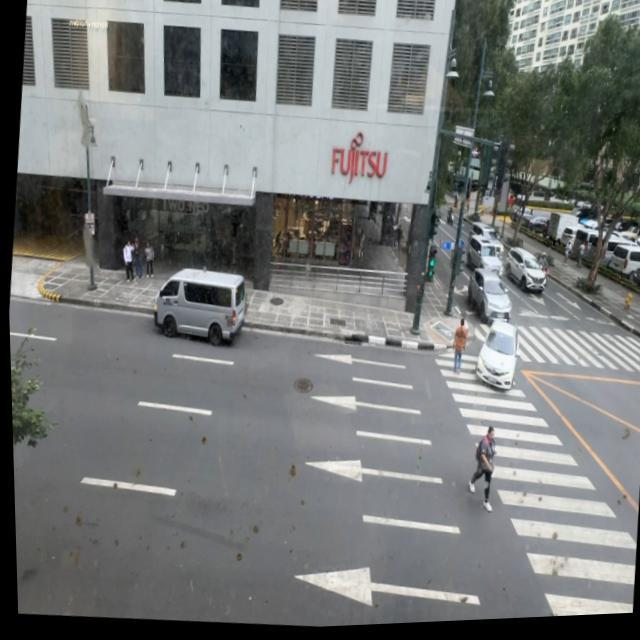jaywalking: (464, 422, 498, 512)
